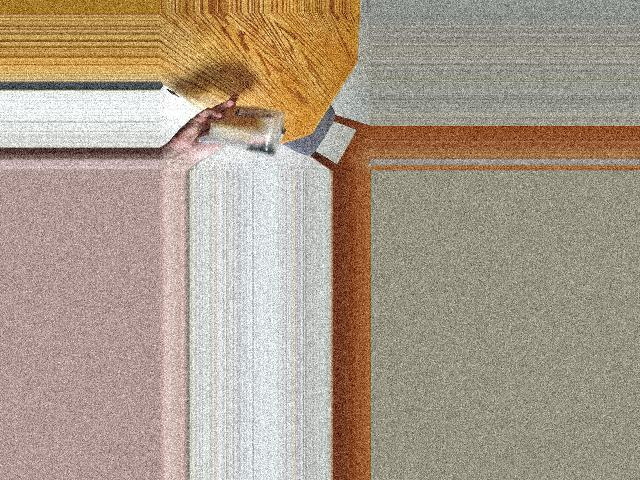cheese: (213, 107, 279, 150)
